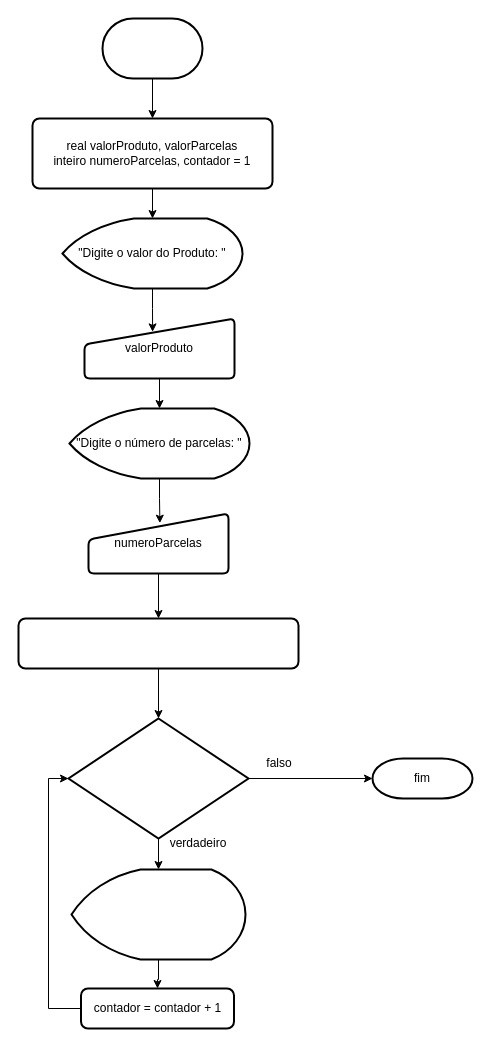
This 490x1046 diagram has some shape labels left out. Each missing label, with the box of its shape:
"Parcela ", contador, ": R$ ",valorParcela: (70, 868, 246, 960)
contador <= numeroParcelas: (67, 717, 249, 839)
inicio: (101, 17, 203, 79)
valorParcelas = valorProduto / numeroParcelas: (17, 617, 299, 669)
